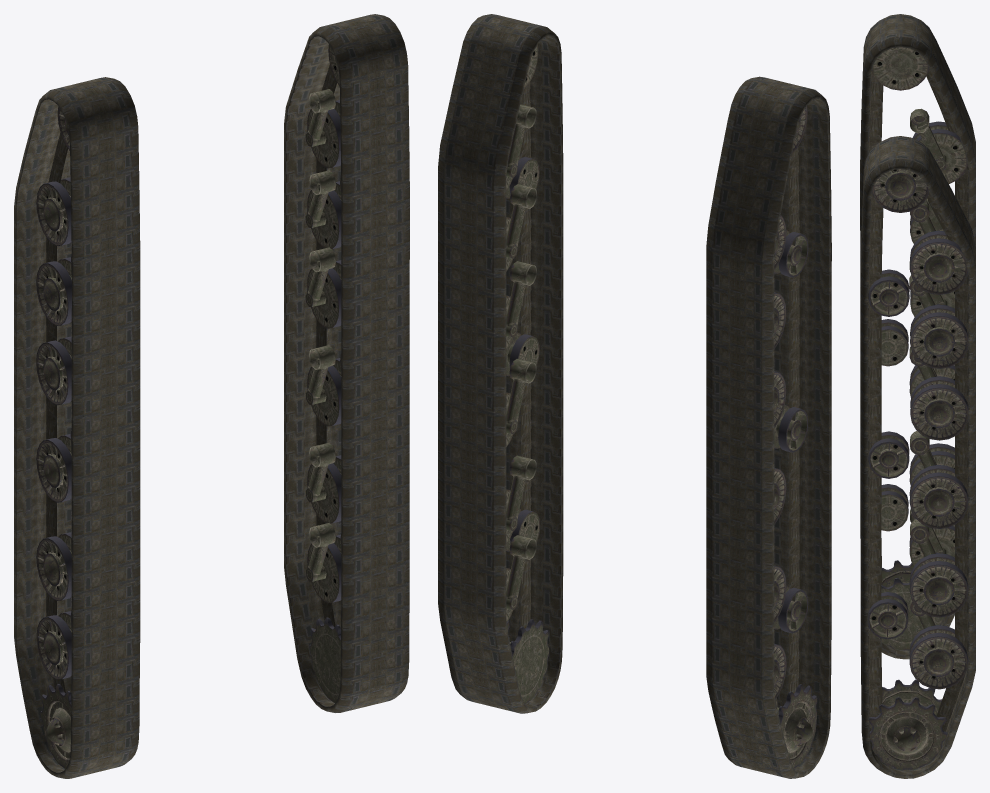
File: Chassis.glb
3 views of the same model, side by side, from view 1: azimuth 30°, elevation 25°; view 2: azimuth 150°, elevation 25°; view 3: azimuth 270°, elevation 25° (orthographic). The views are drawn at different scales.
Parts seen in each view (by area): view 1: set_0_group_0, set_1_group_0, set_3_group_0, set_2_group_0; view 2: set_0_group_0, set_1_group_0, set_3_group_0, set_2_group_0; view 3: set_3_group_0, set_1_group_0, set_2_group_0, set_0_group_0.
Part boxes in pixels (x1=…): set_0_group_0: x1=14, y1=77, x2=140, y2=778; set_1_group_0: x1=284, y1=14, x2=409, y2=712; set_3_group_0: x1=305, y1=44, x2=341, y2=702; set_2_group_0: x1=36, y1=106, x2=71, y2=768; set_0_group_0: x1=706, y1=76, x2=831, y2=778; set_1_group_0: x1=438, y1=14, x2=563, y2=713; set_3_group_0: x1=506, y1=44, x2=548, y2=703; set_2_group_0: x1=733, y1=106, x2=817, y2=768; set_3_group_0: x1=868, y1=169, x2=968, y2=769; set_1_group_0: x1=860, y1=136, x2=975, y2=778; set_2_group_0: x1=872, y1=47, x2=967, y2=650; set_0_group_0: x1=860, y1=14, x2=975, y2=659.
Bounding box in the file's own units: 3.35 × 6.44 × 1.09.
4 materials, 4 textured.
